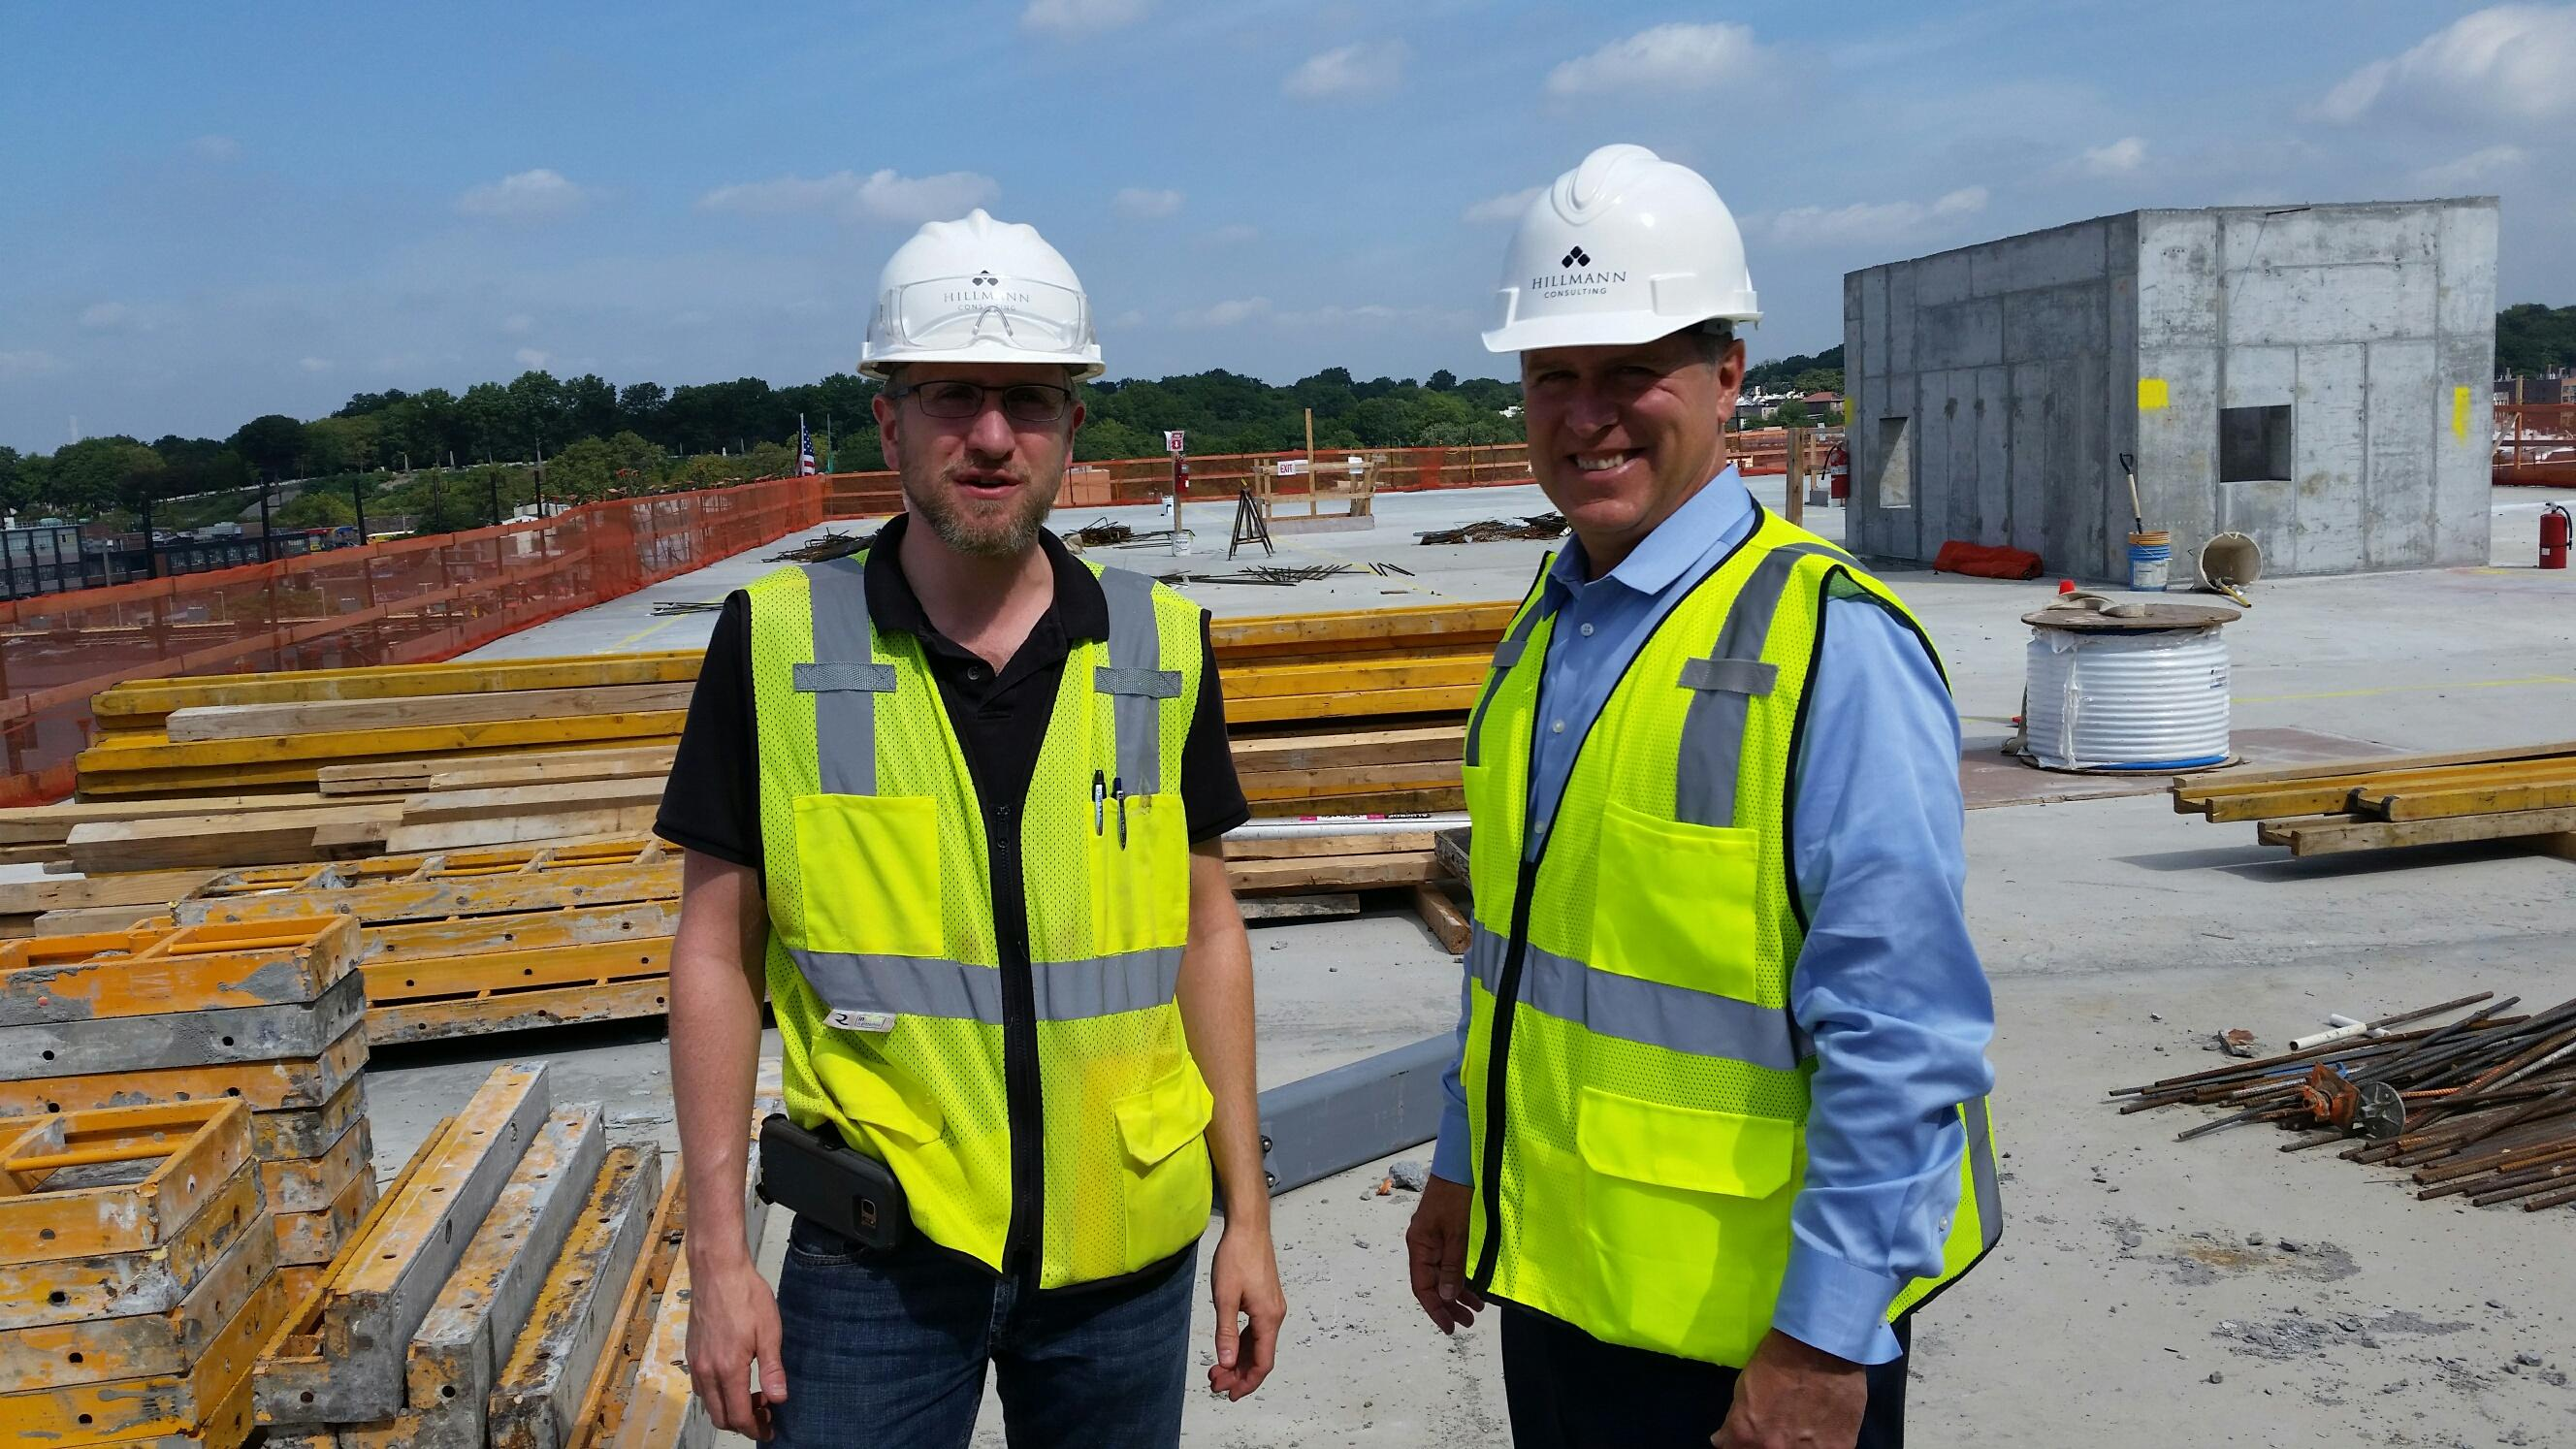helmet: (1490, 143, 1767, 357), (876, 214, 1120, 377)
